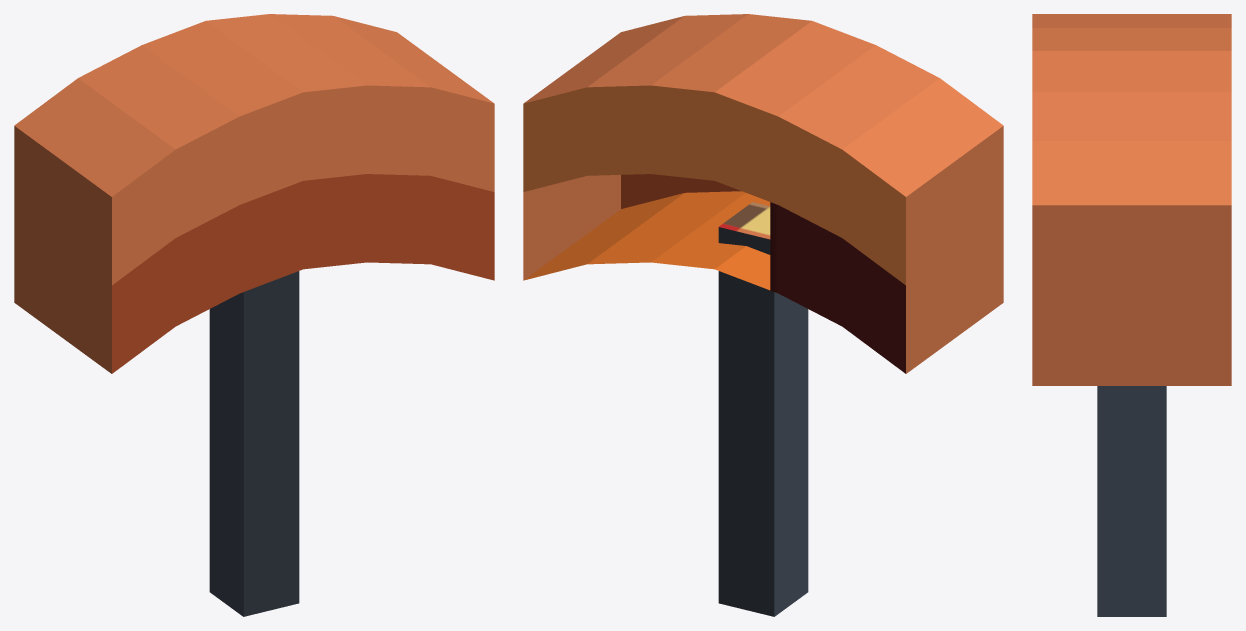
Rendered from Teto curvado.fbx.
3 views of the same model, side by side, from view 1: azimuth 30°, elevation 25°; view 2: azimuth 150°, elevation 25°; view 3: azimuth 270°, elevation 25° (orthographic). The views are drawn at different scales.
Visible parts, largest first — view 1: Cube.001; view 2: Cube.001; view 3: Cube.001.
Part boxes in pixels (box(x1,y1,x2,y2)): Cube.001: box(14, 14, 494, 616); Cube.001: box(523, 14, 1003, 616); Cube.001: box(1032, 14, 1231, 616).
Bounding box in the file's own units: 453 × 611 × 200.
1 material, 1 textured.
